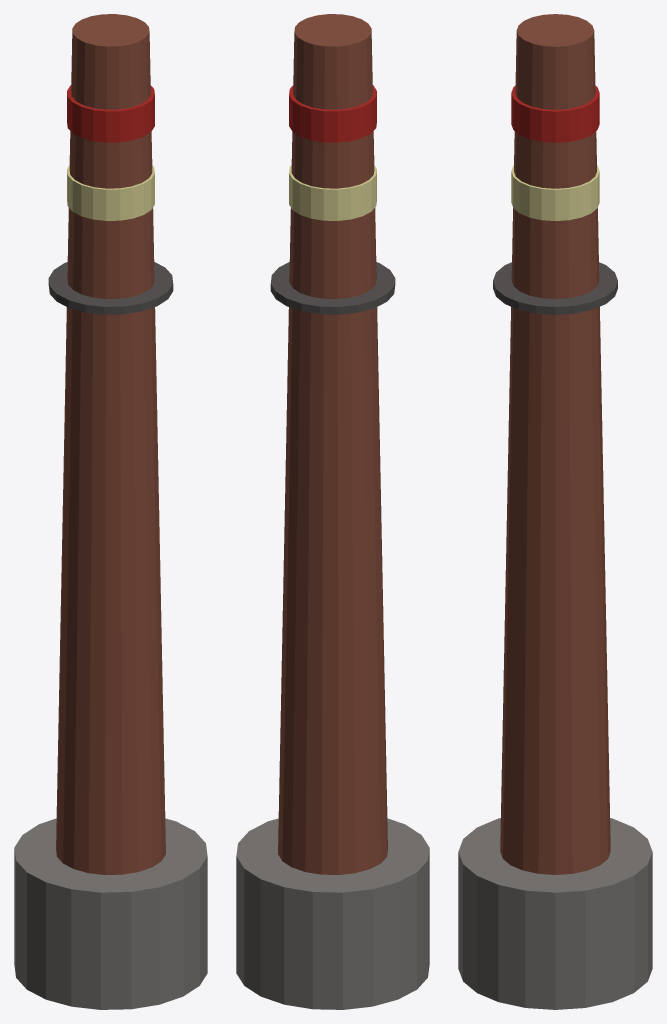
File: chimney_stack_script.glb
3 renders of one model, left to right at view 1: azimuth 30°, elevation 25°; view 2: azimuth 150°, elevation 25°; view 3: azimuth 270°, elevation 25°, orthographic.
Parts seen in each view (by area): view 1: Cone, Cylinder, Cylinder.002, Cylinder.001, Cylinder.003; view 2: Cone, Cylinder, Cylinder.002, Cylinder.001, Cylinder.003; view 3: Cone, Cylinder, Cylinder.002, Cylinder.001, Cylinder.003.
Boxes of the visible parts, bbox=[...] form: Cone: bbox=[56, 14, 165, 874]; Cylinder: bbox=[14, 818, 207, 1009]; Cylinder.002: bbox=[67, 85, 154, 142]; Cylinder.001: bbox=[67, 165, 154, 220]; Cylinder.003: bbox=[48, 262, 173, 314]; Cone: bbox=[278, 14, 387, 874]; Cylinder: bbox=[236, 818, 429, 1009]; Cylinder.002: bbox=[289, 85, 376, 142]; Cylinder.001: bbox=[289, 165, 376, 220]; Cylinder.003: bbox=[270, 262, 395, 314]; Cone: bbox=[500, 14, 610, 874]; Cylinder: bbox=[458, 818, 652, 1009]; Cylinder.002: bbox=[511, 85, 599, 142]; Cylinder.001: bbox=[511, 165, 599, 220]; Cylinder.003: bbox=[493, 262, 617, 314].
Bounding box in the file's own units: 9 × 48 × 9.
